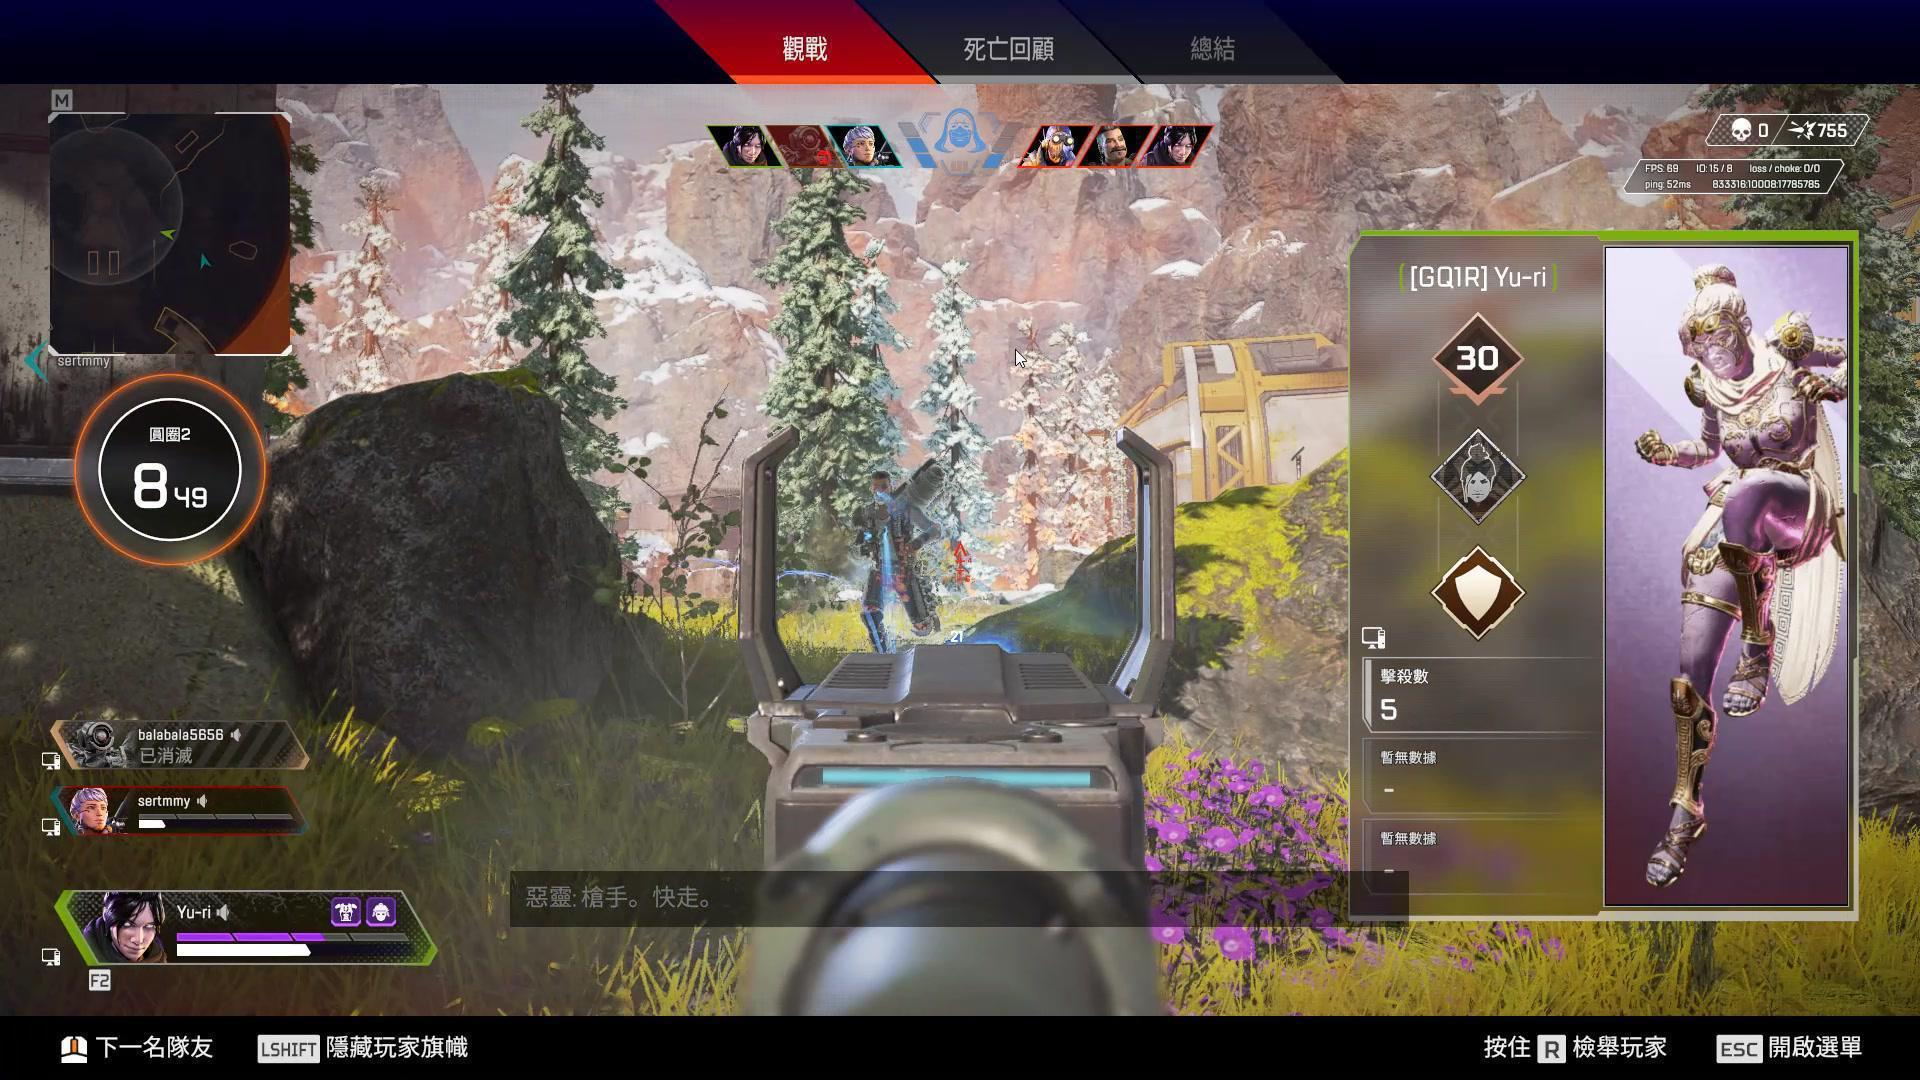avatar: (850, 467, 941, 653)
